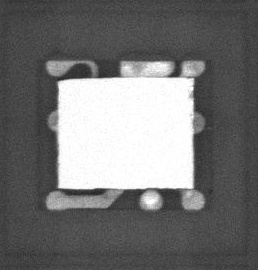DIE_BROKEN: (188, 88, 195, 100), (56, 76, 70, 81)
